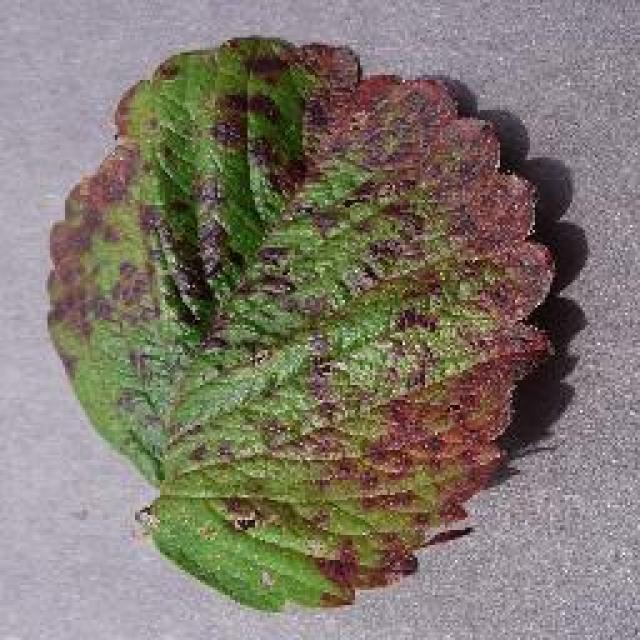Strawberry leaf scorch: (128, 60, 528, 488)
